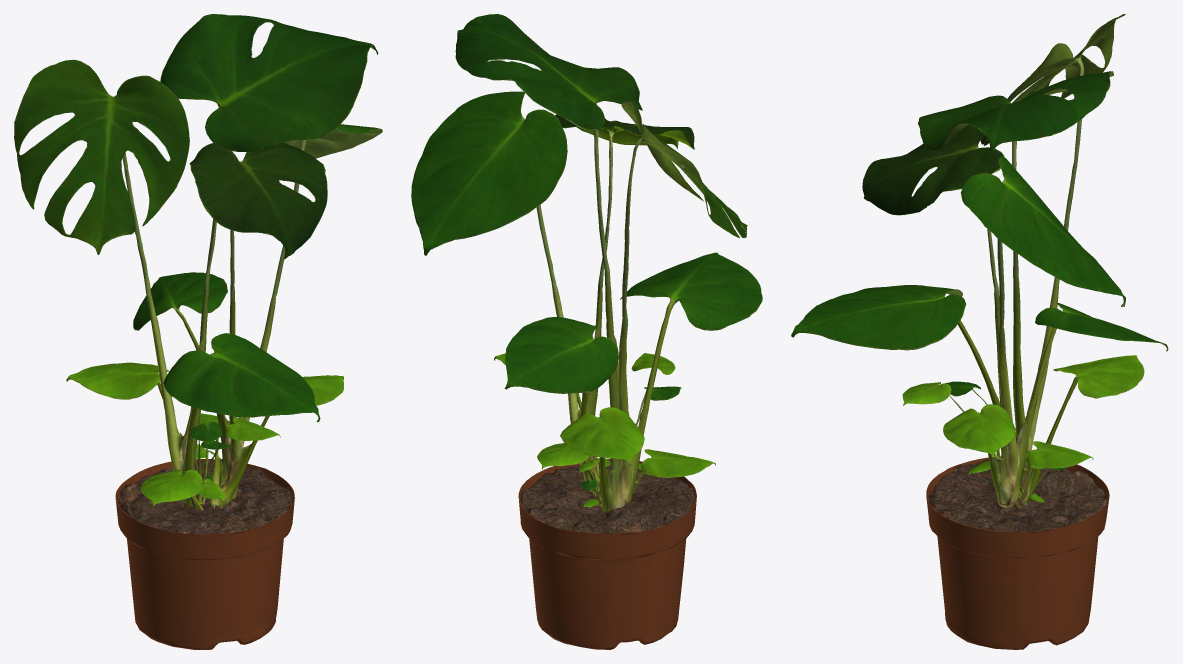
The model's file is iKEA_MONSTERA DELICIOSA Planta.glb.
The picture shows the model from 3 angles, left to right: view 1: azimuth 30°, elevation 25°; view 2: azimuth 150°, elevation 25°; view 3: azimuth 270°, elevation 25°; orthographic projection. The views are drawn at different scales.
Parts seen in each view (by area): view 1: 50515493-MONSTERA DELICIOSA001; view 2: 50515493-MONSTERA DELICIOSA001; view 3: 50515493-MONSTERA DELICIOSA001.
Boxes of the visible parts, x1,y1,x2,y2 form: 50515493-MONSTERA DELICIOSA001: (14,14,382,649); 50515493-MONSTERA DELICIOSA001: (411,14,762,649); 50515493-MONSTERA DELICIOSA001: (791,14,1168,649).
Bounding box in the file's own units: 0.2554 × 0.4172 × 0.248.
1 material, 1 textured.
